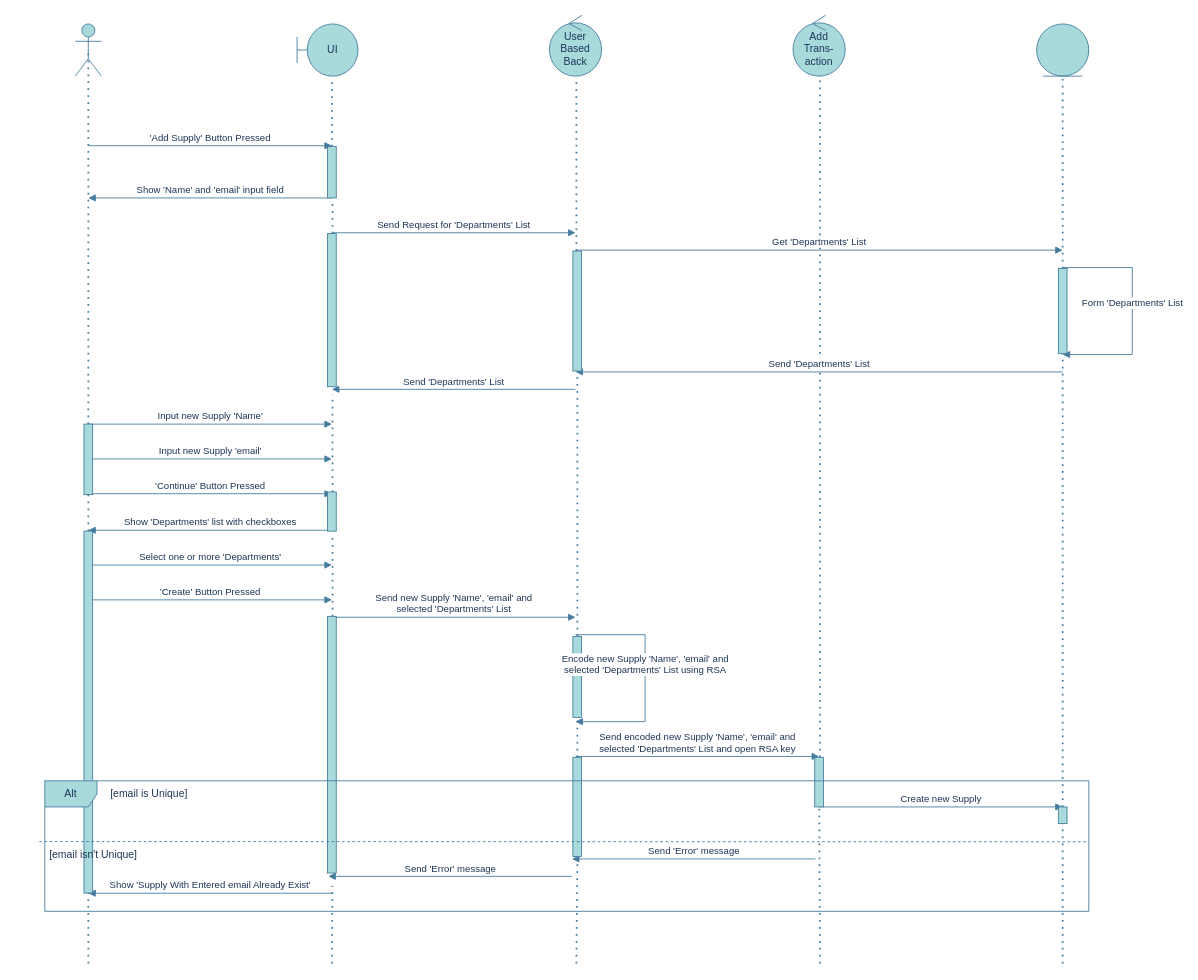
This 1198x980 diagram has some shape labels left out. Each missing label, with the centre of its shape:
"Admin" goes at point (87, 49).
"Logins DB" goes at point (1062, 49).
